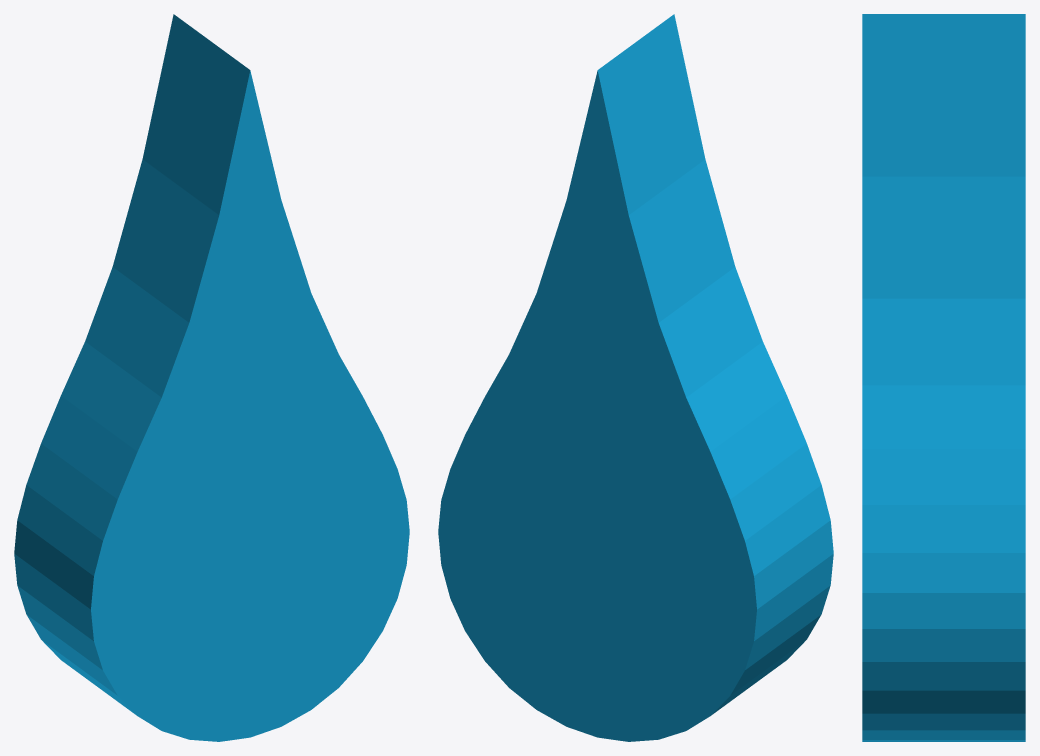
3 renders of one model, left to right at view 1: azimuth 30°, elevation 25°; view 2: azimuth 150°, elevation 25°; view 3: azimuth 270°, elevation 25°, orthographic. The views are drawn at different scales.
Parts seen in each view (by area): view 1: Cylinder.002; view 2: Cylinder.002; view 3: Cylinder.002.
Part boxes in pixels (bbox=[...]): Cylinder.002: bbox=[14, 14, 409, 741]; Cylinder.002: bbox=[438, 14, 833, 741]; Cylinder.002: bbox=[862, 14, 1025, 741].
Bounding box in the file's own units: 12 × 24 × 5.
